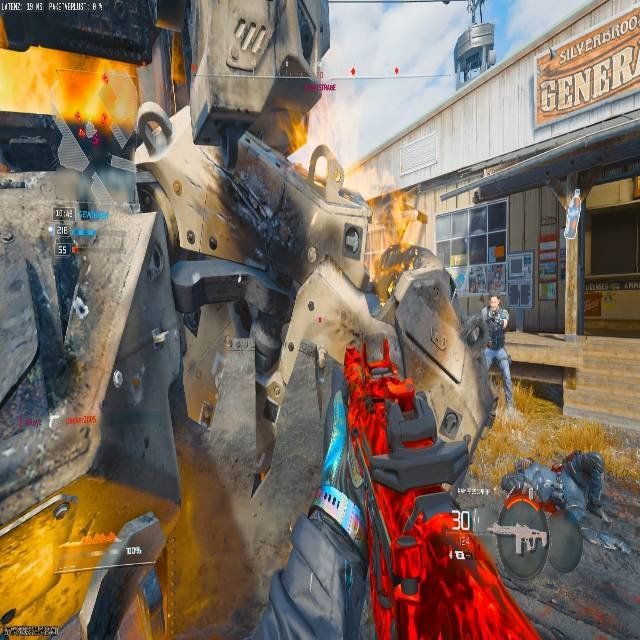head: (257, 71, 323, 152), (561, 451, 607, 505), (488, 294, 500, 311)
player: (464, 295, 513, 410), (450, 13, 496, 85)
